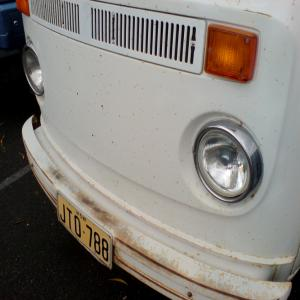Vehicle-registration-plate: (66, 209, 115, 273)
